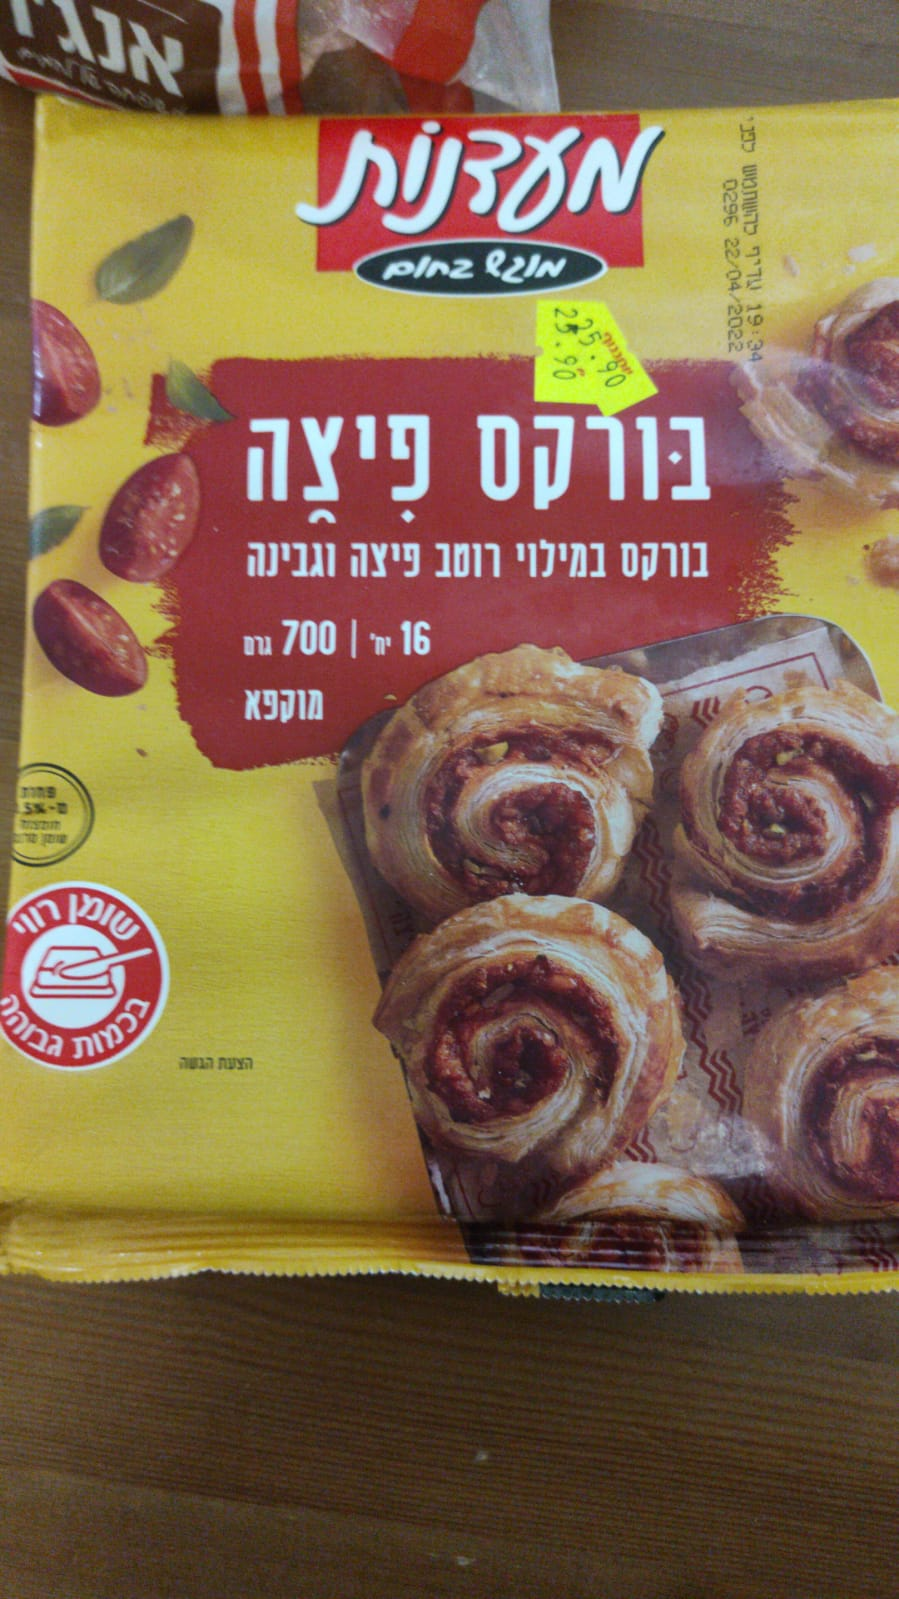fat: (3, 884, 173, 1069)
